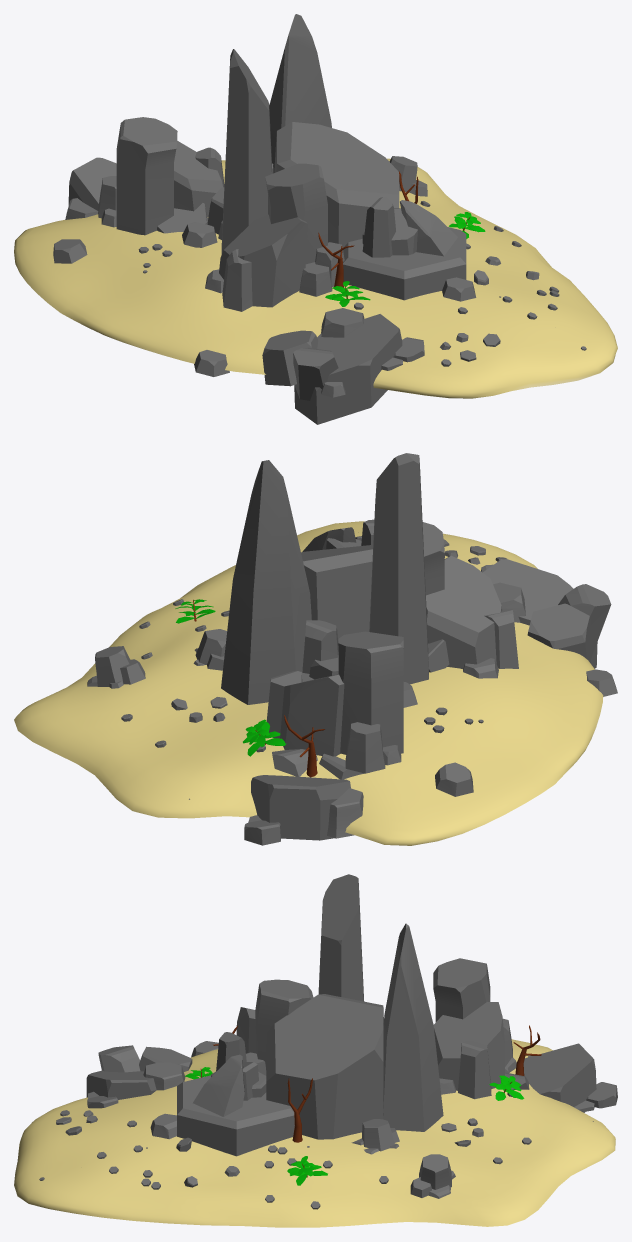
File: Island_rockey_01.fbx
3 renders of one model, top to bottom at view 1: azimuth 30°, elevation 25°; view 2: azimuth 150°, elevation 25°; view 3: azimuth 270°, elevation 25°, orthographic. The views are drawn at different scales.
Parts seen in each view (by area): view 1: Island_rocky_01; view 2: Island_rocky_01; view 3: Island_rocky_01.
Part boxes in pixels (x1,y1,x2,y2): Island_rocky_01: (14, 14, 617, 424); Island_rocky_01: (14, 453, 617, 845); Island_rocky_01: (14, 874, 617, 1227).
Size of the model in its own units: 7968 by 4924 by 10334.
